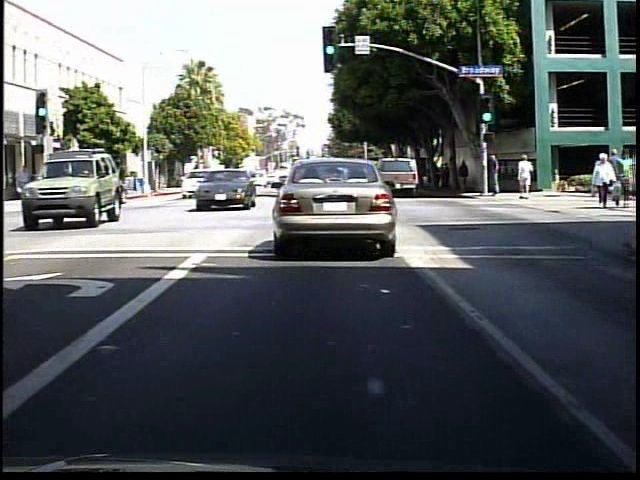person: (587, 154, 616, 210), (604, 146, 630, 207), (612, 146, 630, 211), (515, 153, 537, 203), (485, 150, 505, 204), (22, 163, 38, 209), (460, 159, 475, 193), (444, 160, 457, 194)
